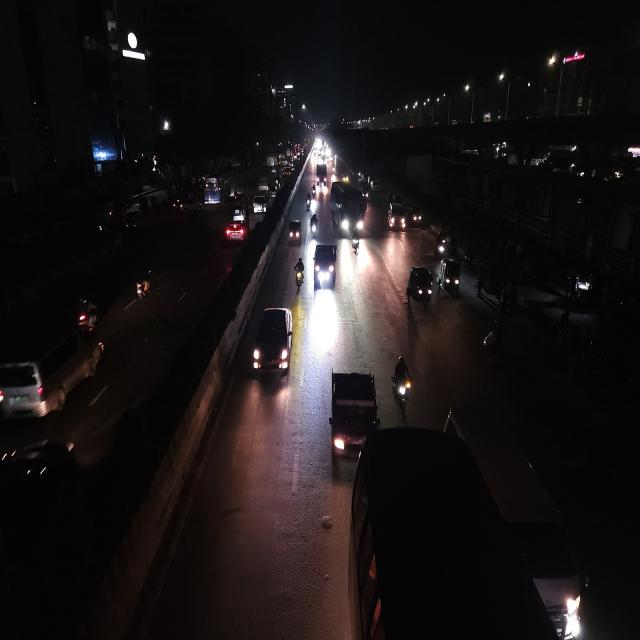bus: (329, 180, 369, 242), (201, 173, 231, 206)
car: (0, 315, 103, 421), (249, 301, 295, 385), (312, 239, 340, 292), (385, 192, 408, 234), (225, 211, 249, 245), (252, 193, 270, 216)
cng: (403, 263, 436, 316), (439, 256, 463, 299), (287, 214, 303, 247)
motorcycle: (390, 353, 414, 416), (76, 296, 102, 336), (133, 264, 155, 305), (292, 255, 306, 293), (434, 233, 448, 260), (349, 227, 361, 258), (309, 212, 319, 241), (304, 194, 312, 212)
pickup_van: (327, 364, 381, 457)
truck: (315, 163, 329, 184)
